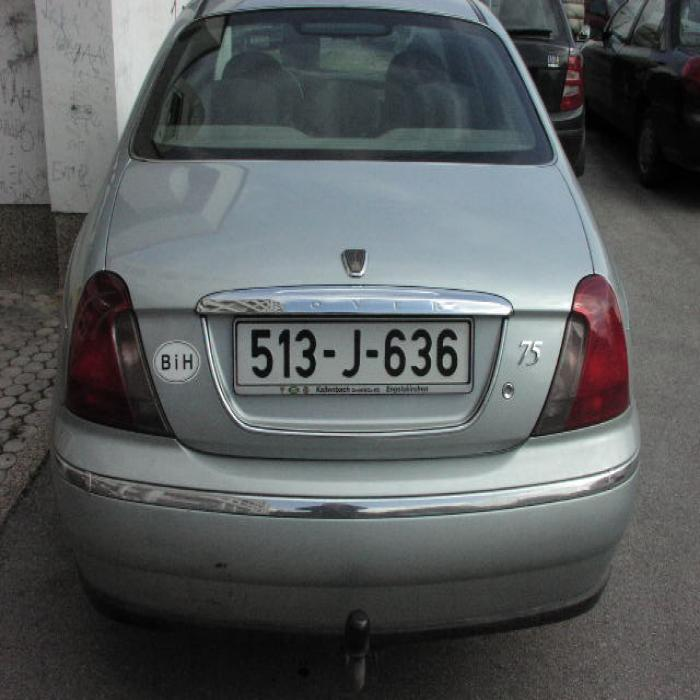number_plate: (233, 321, 467, 382)
